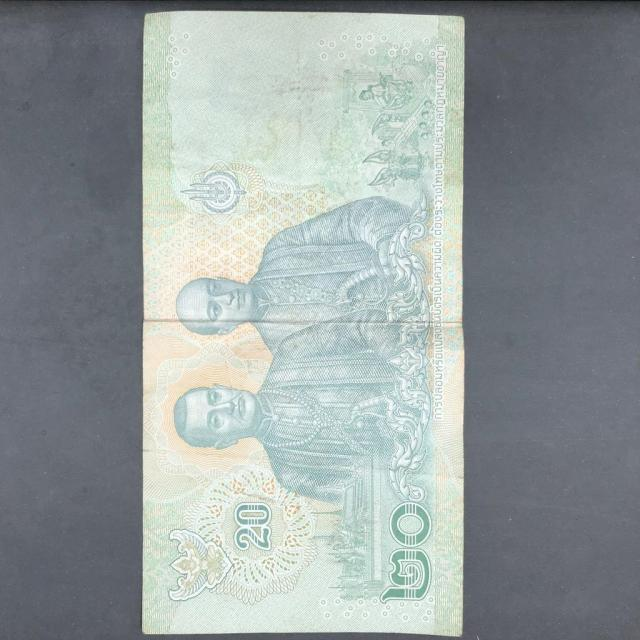THAI20: (142, 11, 464, 636)
